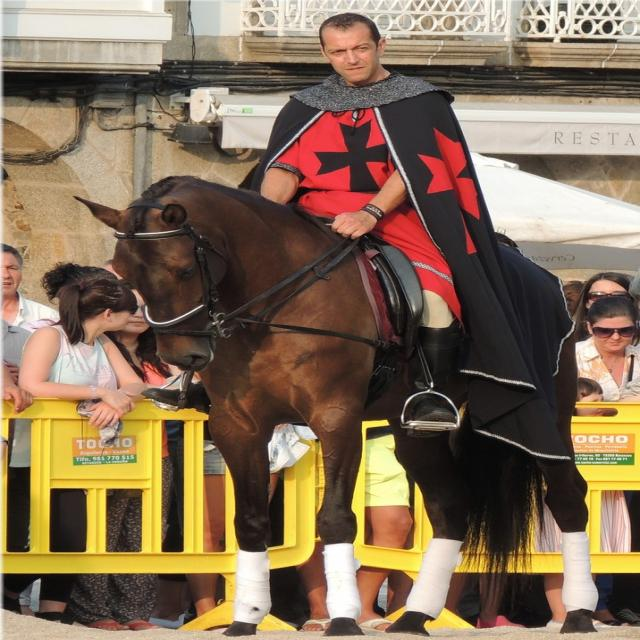Glasses: (592, 327, 636, 338)
